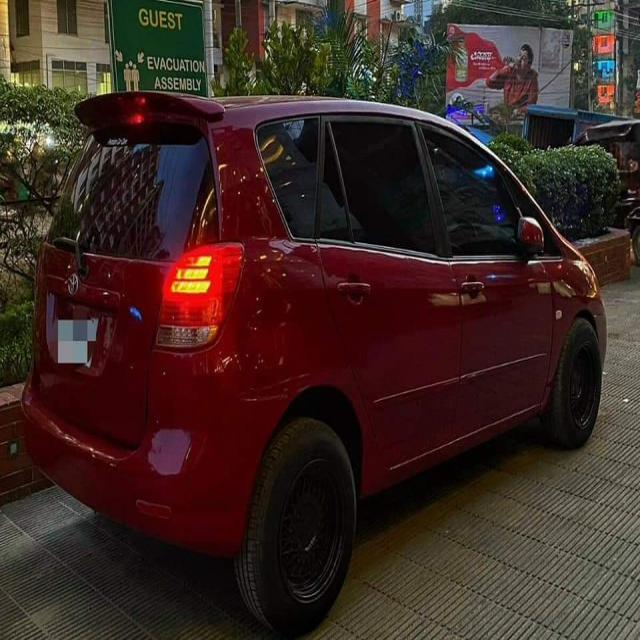red: (34, 95, 598, 569)
